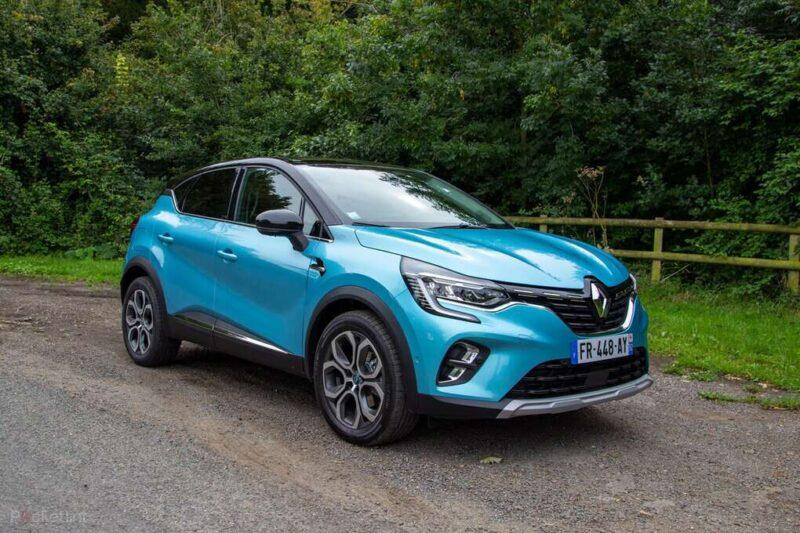Renault: (586, 275, 617, 322)
